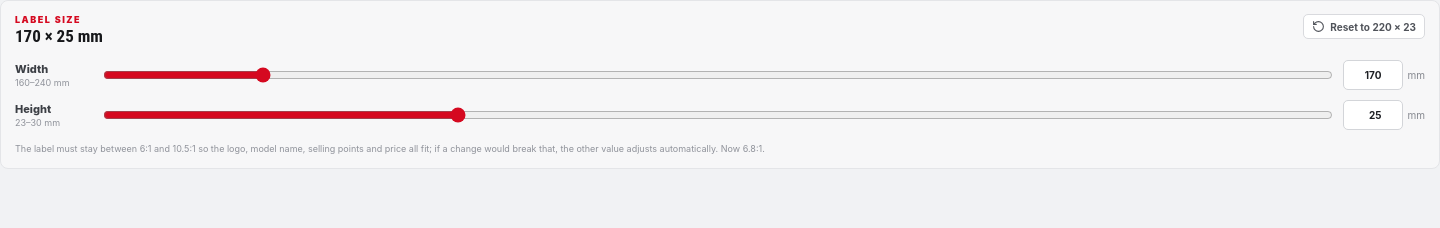
it: label size controls › adjusts the width when the height is raised past what the width allows
Step 1. Set the slider named "Height slider" to "30" → coordinates (1325, 115), box [103, 107, 1333, 123]
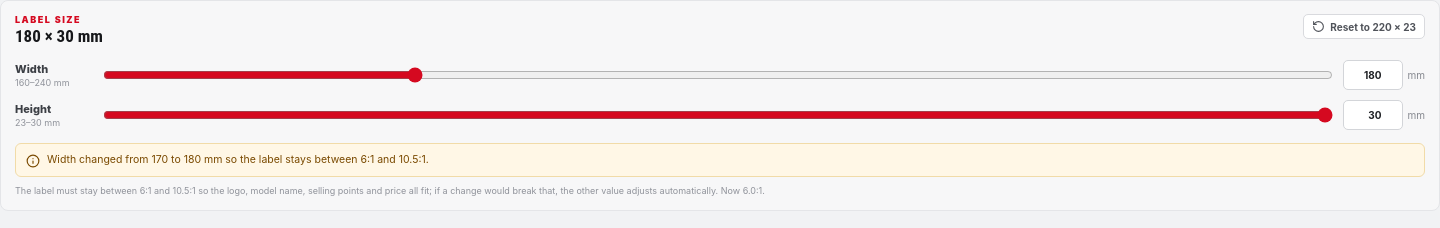
Expected: the number field named "Width in millimetres" holds "180", [1343, 60, 1404, 90]
Expected: the message shows "Width changed from 170 to 180 mm", [47, 153, 429, 166]
